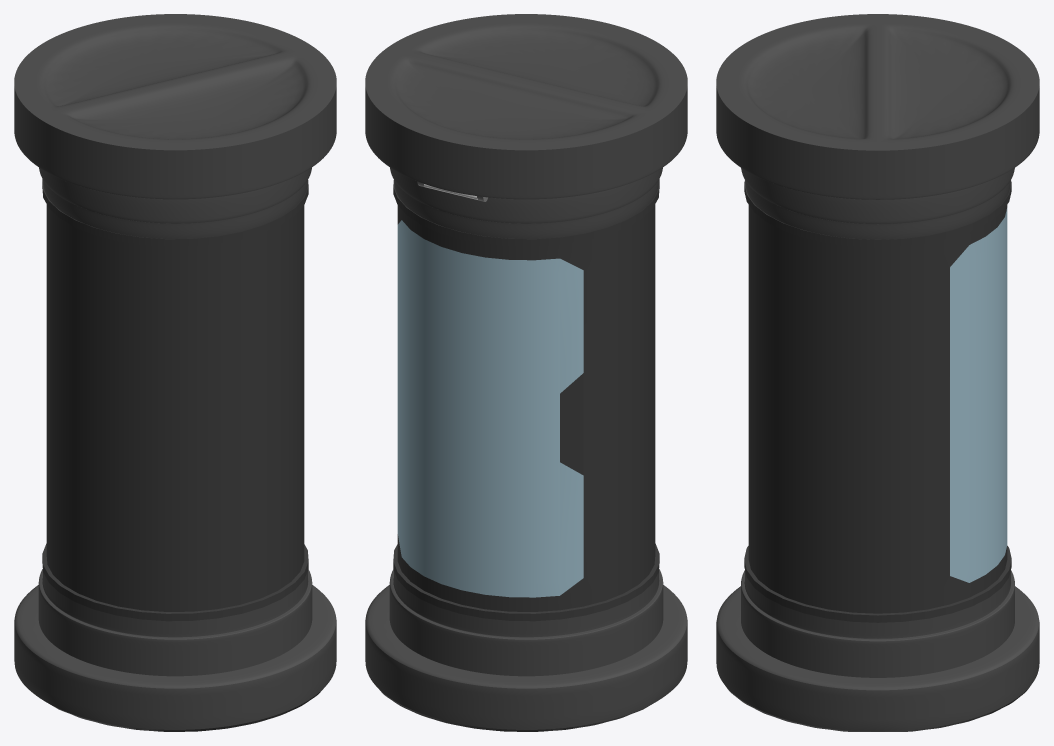
The model's file is Pod.fbx.
3 renders of one model, left to right at view 1: azimuth 30°, elevation 25°; view 2: azimuth 150°, elevation 25°; view 3: azimuth 270°, elevation 25°, orthographic.
Visible parts, largest first — view 1: Gövde; view 2: Gövde; view 3: Gövde.
Boxes of the visible parts, left/top/right/bottom form: Gövde: left=14, top=14, right=336, bottom=731; Gövde: left=365, top=14, right=687, bottom=731; Gövde: left=716, top=14, right=1039, bottom=731.
Bounding box in the file's own units: 2.39 × 4.78 × 2.39.
